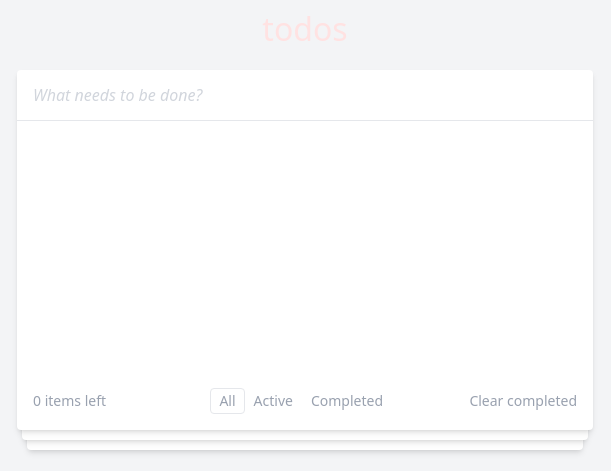
Test: Todo App › 3. Фильтрует задачи по статусу
Type "Активная задача" into the field with placeholder "What needs to be done?".
click(305, 95); type("Активная задача")  # box [17,70,593,121]
Submit the form with test id "todo-form", box [17,70,593,121]
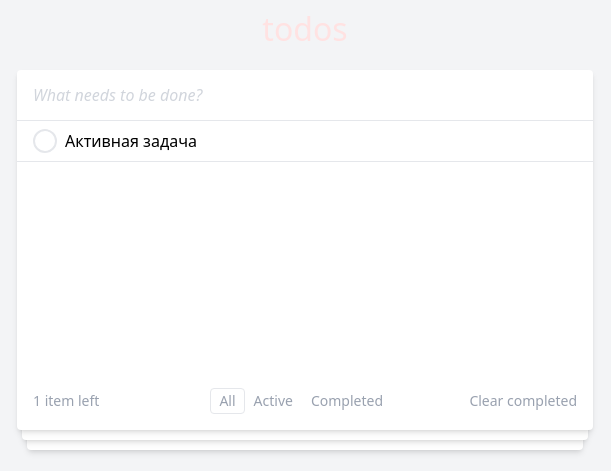
Type "Завершенная задача" into the field with placeholder "What needs to be done?".
click(305, 95); type("Завершенная задача")  # box [17,70,593,121]
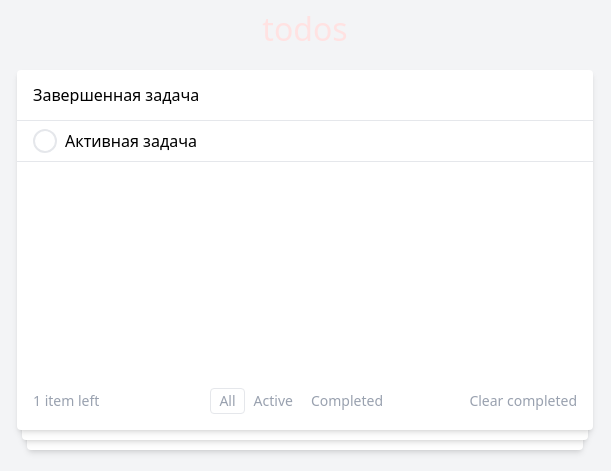
Submit the form with test id "todo-form", box [17,70,593,121]
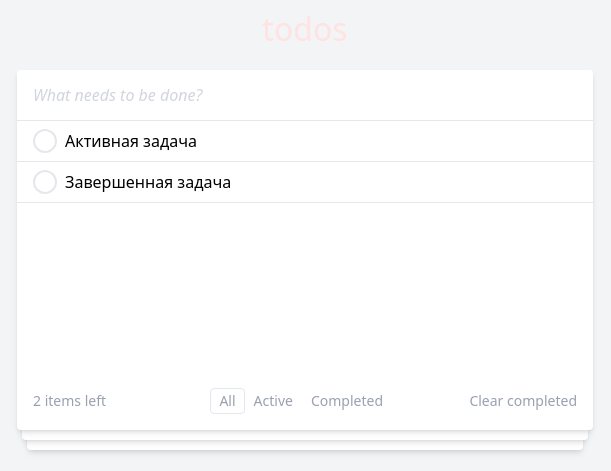
Click the list item "Завершенная задача".
click(305, 183)  # box [17,162,593,203]
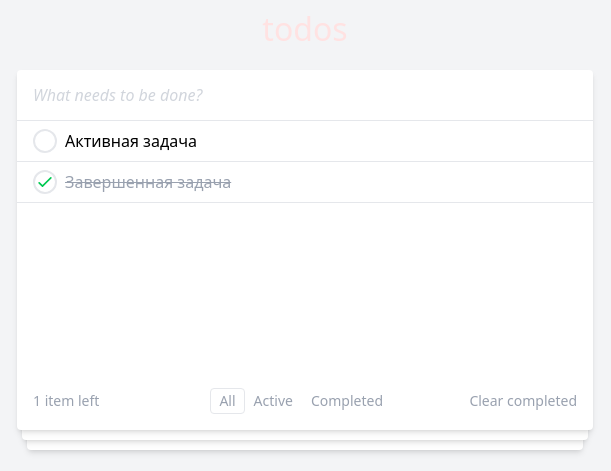
Click the button "active".
click(273, 401)  # box [245,388,302,414]
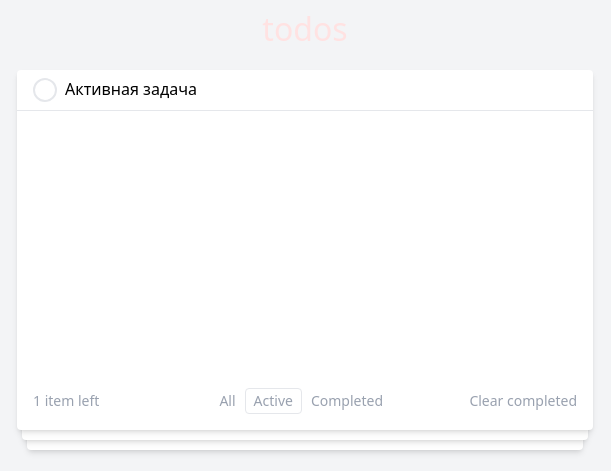
expect the list item "Активная задача" is shown: met, box [17,70,593,111]
expect the list item "Завершенная задача" is gone: met
Click the button "completed".
click(347, 401)  # box [302,388,392,414]
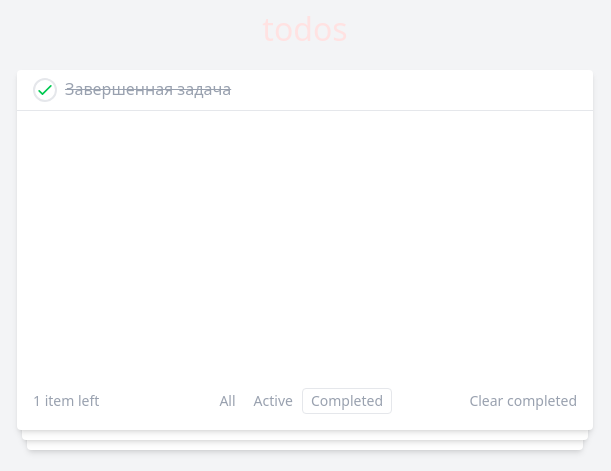
expect the list item "Завершенная задача" is shown: met, box [17,70,593,111]
expect the list item "Активная задача" is gone: met
